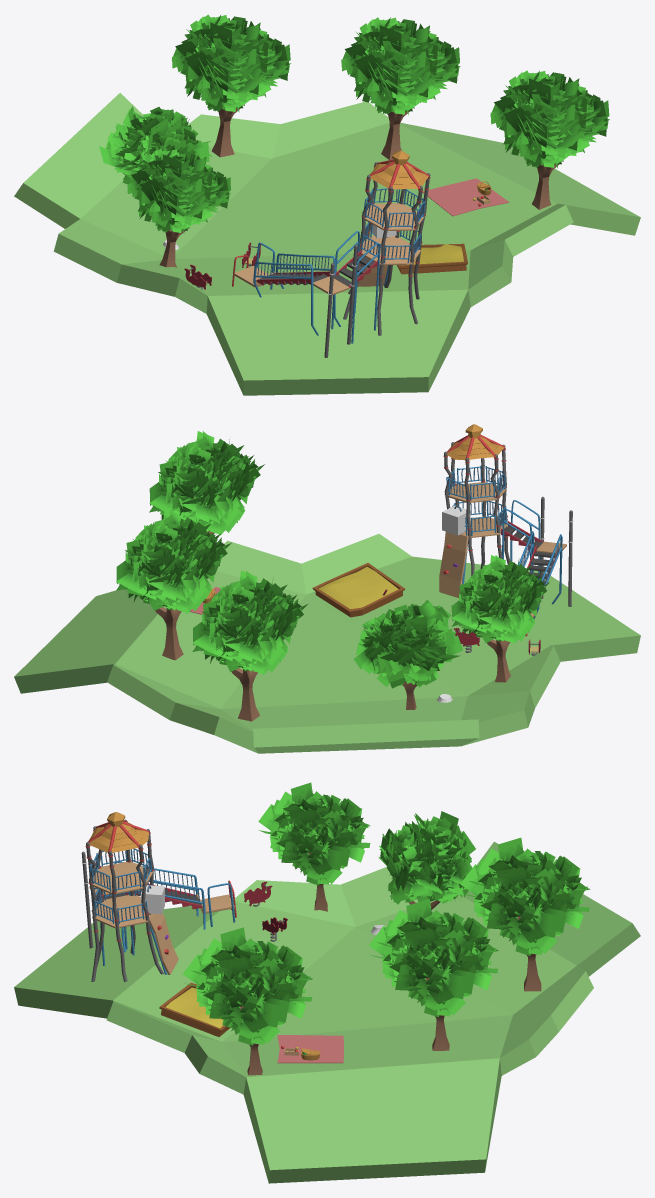
Rendered from Park (1).fbx.
3 views of the same model, one above another, from view 1: azimuth 30°, elevation 25°; view 2: azimuth 150°, elevation 25°; view 3: azimuth 270°, elevation 25° (orthographic). The views are drawn at different scales.
Visible parts, largest first — view 1: Mid.001, Plane.002, Plane.005, Plane.335, Plane.004, Plane.006, Circle.021, Plane.001, Circle.025, Circle.019, Circle.017, Circle.002 (+8 smaller); view 2: Mid.001, Plane.335, Plane.005, Plane.002, Plane.006, Plane.004, Circle.021, Cube.010, Circle.003, Cube.009, Circle.025, Circle.019 (+7 smaller); view 3: Mid.001, Plane.335, Plane.002, Plane.005, Plane.004, Plane.006, Circle.021, Plane.001, Circle.025, Circle.017, Circle.002, Circle.019 (+3 smaller).
Boxes of the visible parts, left/top/right/bottom form: Mid.001: left=14, top=93, right=640, bottom=395; Plane.002: left=490, top=70, right=609, bottom=168; Plane.005: left=172, top=14, right=291, bottom=112; Plane.335: left=341, top=17, right=460, bottom=115; Plane.004: left=127, top=148, right=230, bottom=233; Plane.006: left=99, top=106, right=212, bottom=184; Circle.021: left=343, top=161, right=430, bottom=335; Plane.001: left=422, top=178, right=509, bottom=216; Circle.025: left=370, top=150, right=428, bottom=189; Circle.019: left=360, top=188, right=425, bottom=263; Circle.017: left=364, top=203, right=424, bottom=230; Circle.002: left=361, top=237, right=421, bottom=265; Mid.001: left=14, top=534, right=640, bottom=753; Plane.335: left=116, top=509, right=231, bottom=613; Plane.005: left=192, top=570, right=307, bottom=674; Plane.002: left=149, top=431, right=264, bottom=535; Plane.006: left=354, top=599, right=462, bottom=688; Plane.004: left=451, top=555, right=549, bottom=643; Circle.021: left=443, top=442, right=510, bottom=575; Cube.010: left=318, top=566, right=398, bottom=609; Circle.003: left=439, top=531, right=468, bottom=597; Cube.009: left=312, top=563, right=405, bottom=617; Circle.025: left=447, top=424, right=503, bottom=460; Circle.019: left=446, top=465, right=506, bottom=535; Mid.001: left=14, top=841, right=640, bottom=1183; Plane.335: left=368, top=899, right=498, bottom=1017; Plane.002: left=183, top=927, right=312, bottom=1045; Plane.005: left=460, top=837, right=590, bottom=955; Plane.004: left=258, top=782, right=370, bottom=885; Plane.006: left=378, top=811, right=475, bottom=904; Circle.021: left=85, top=819, right=164, bottom=981; Plane.001: left=277, top=1035, right=343, bottom=1063; Circle.025: left=88, top=812, right=148, bottom=852; Circle.017: left=92, top=861, right=152, bottom=894; Circle.002: left=92, top=894, right=151, bottom=928; Circle.019: left=89, top=848, right=151, bottom=923.
Bounding box in the file's own units: 2075 × 825 × 2150.
